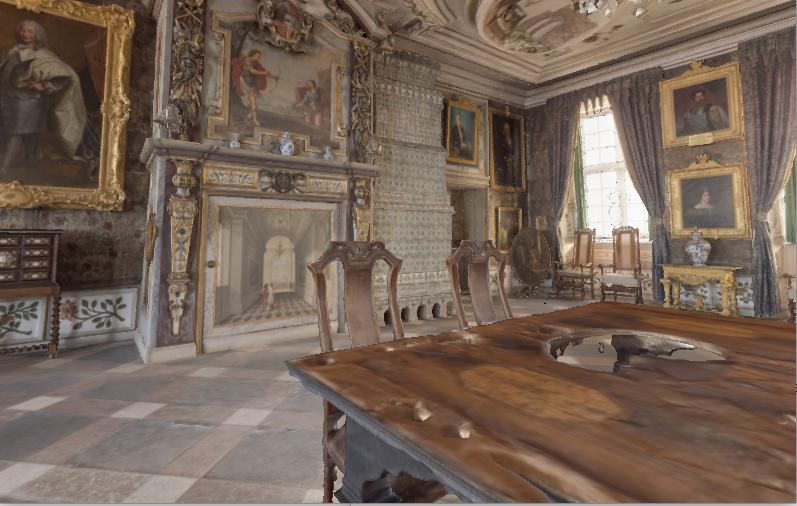chair: (296, 240, 462, 506), (428, 223, 529, 347), (596, 215, 665, 309), (553, 220, 598, 300)
table: (262, 272, 797, 506)
